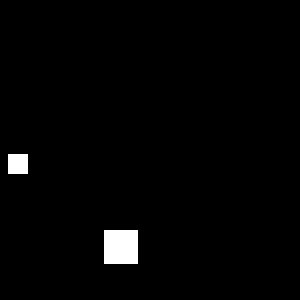circle: (104, 230, 138, 264), (8, 154, 28, 174)
